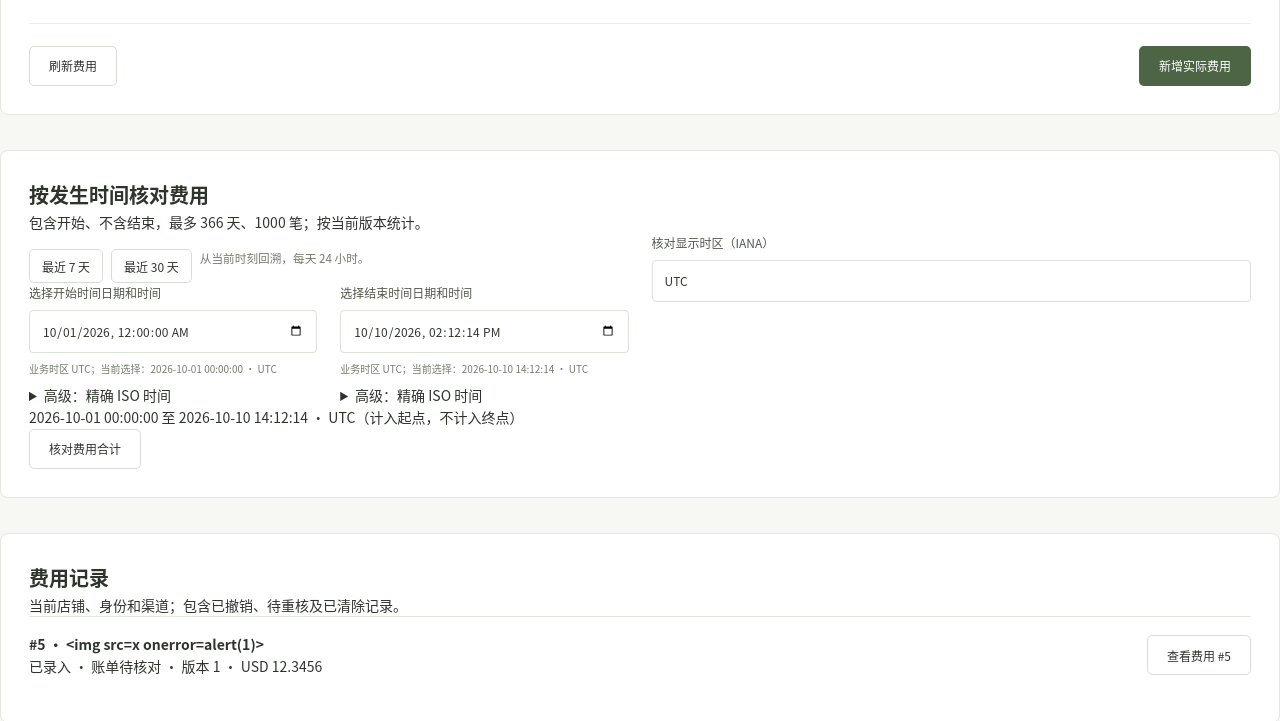
Test: hides old evidence on failed refresh and restores saved scope
(page scrolled)
Click the button "查看费用 #5" at (1199, 655), box [1147,635,1251,675]
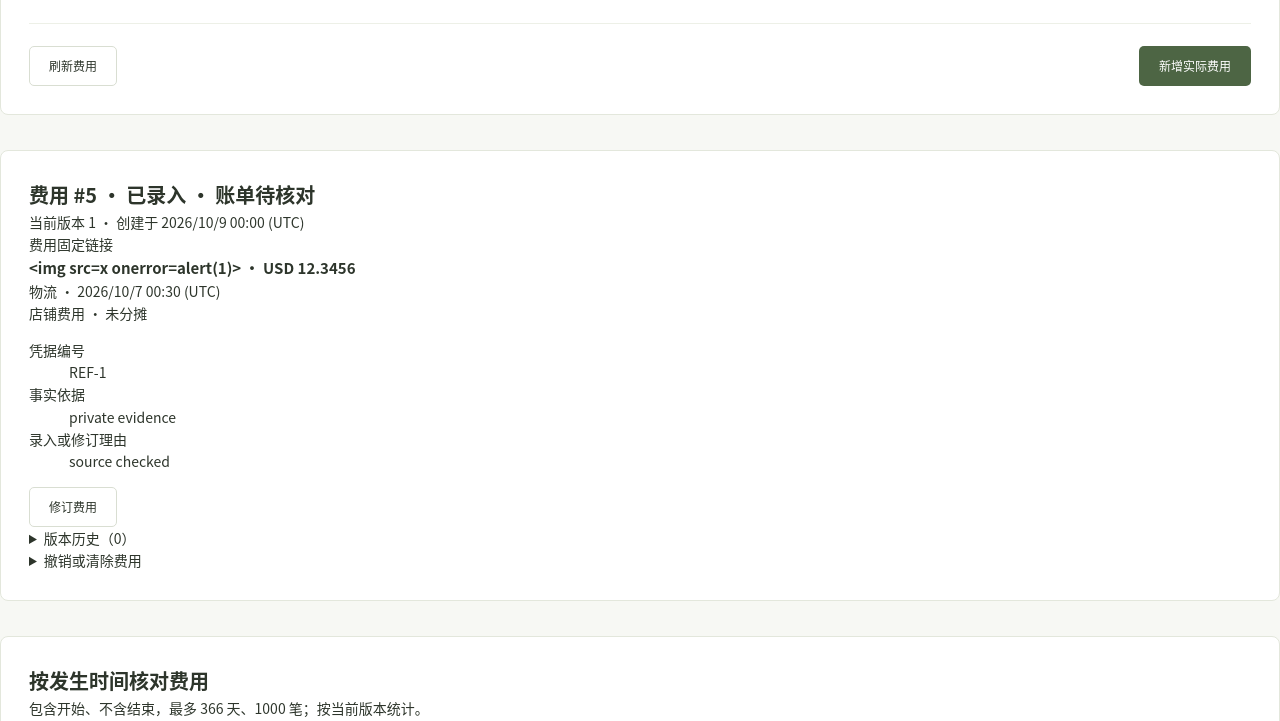
Result: the text "private evidence" is shown at [69,407,176,427]
Click the button "刷新费用" at (73, 66), box [29,46,117,86]
(page scrolled)
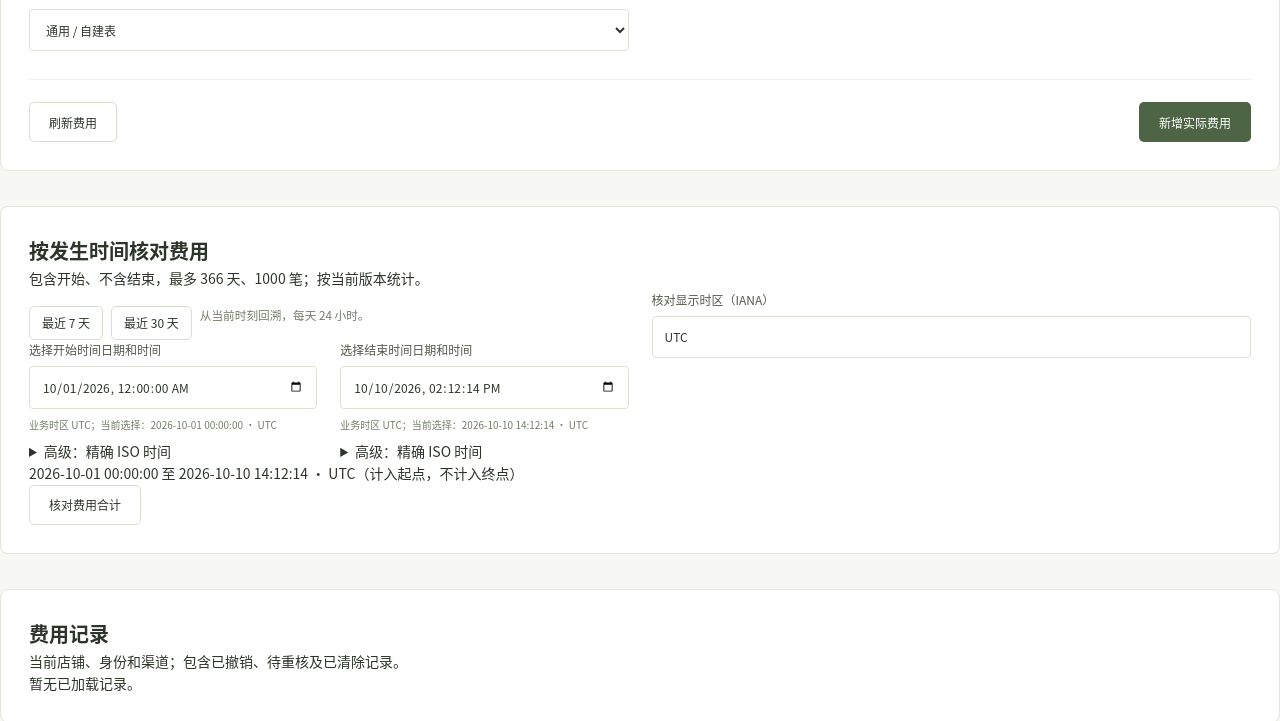
Result: the text "private evidence" is gone
